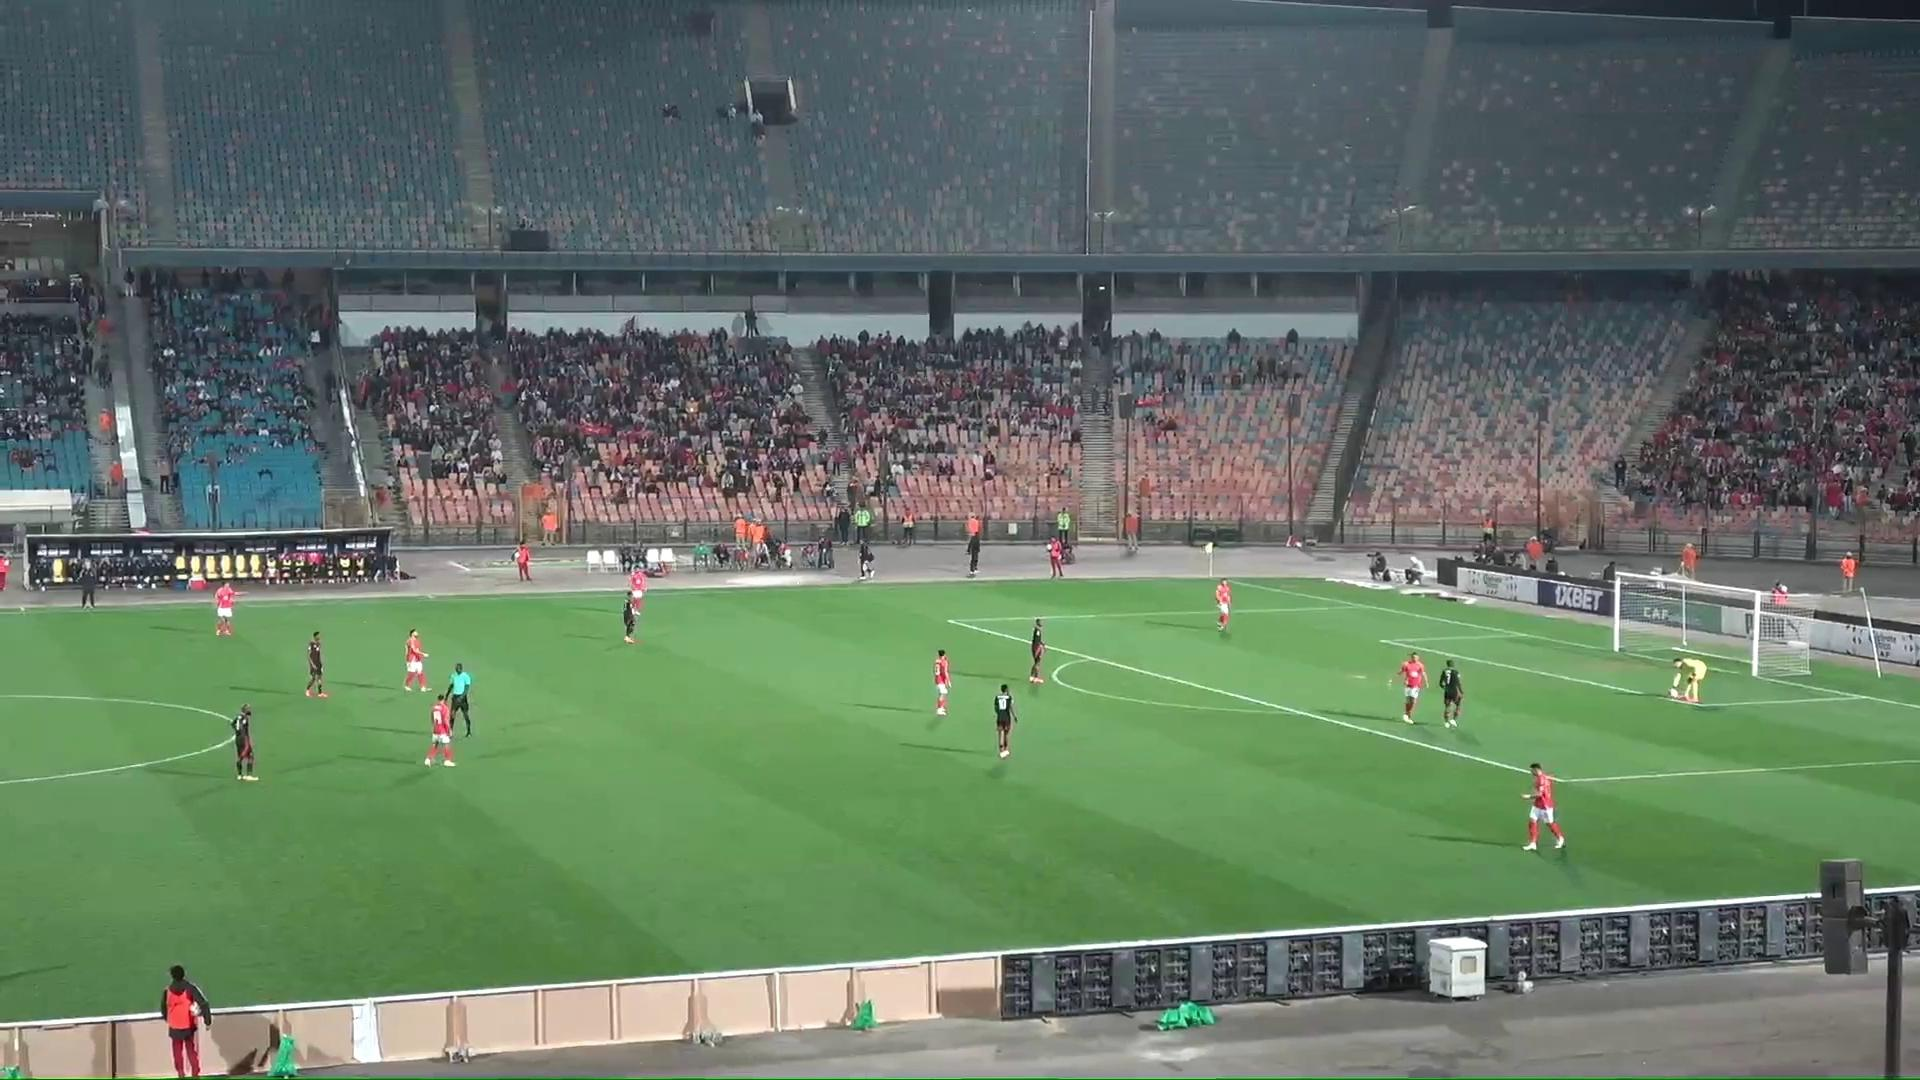Ball: (1668, 684, 1683, 702)
GK1: (1668, 647, 1709, 705)
Refree: (444, 662, 475, 740)
Team1: (1522, 764, 1564, 851), (422, 696, 454, 766), (1399, 651, 1427, 723), (404, 629, 429, 691), (214, 582, 240, 636), (932, 649, 952, 716), (625, 564, 651, 608), (1216, 578, 1232, 632)
Team2: (229, 704, 257, 781), (992, 684, 1017, 760), (1439, 659, 1464, 728), (305, 632, 328, 698), (1029, 618, 1048, 684), (622, 591, 642, 644)
